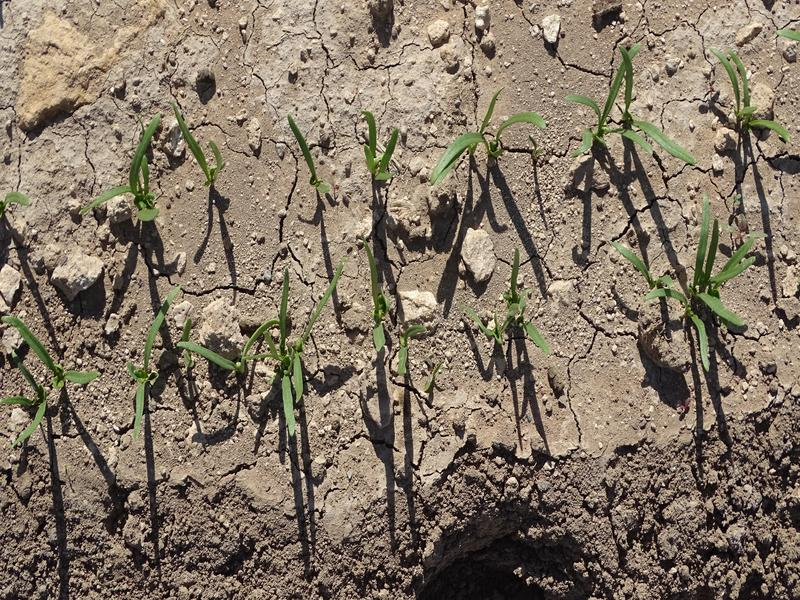Espinaca: (614, 202, 757, 359), (90, 100, 232, 222), (578, 47, 697, 169), (243, 274, 337, 418), (135, 292, 235, 427), (6, 313, 97, 446), (428, 95, 548, 182), (469, 251, 550, 357), (715, 47, 791, 142), (371, 299, 423, 370), (286, 117, 330, 191), (355, 114, 404, 179)
